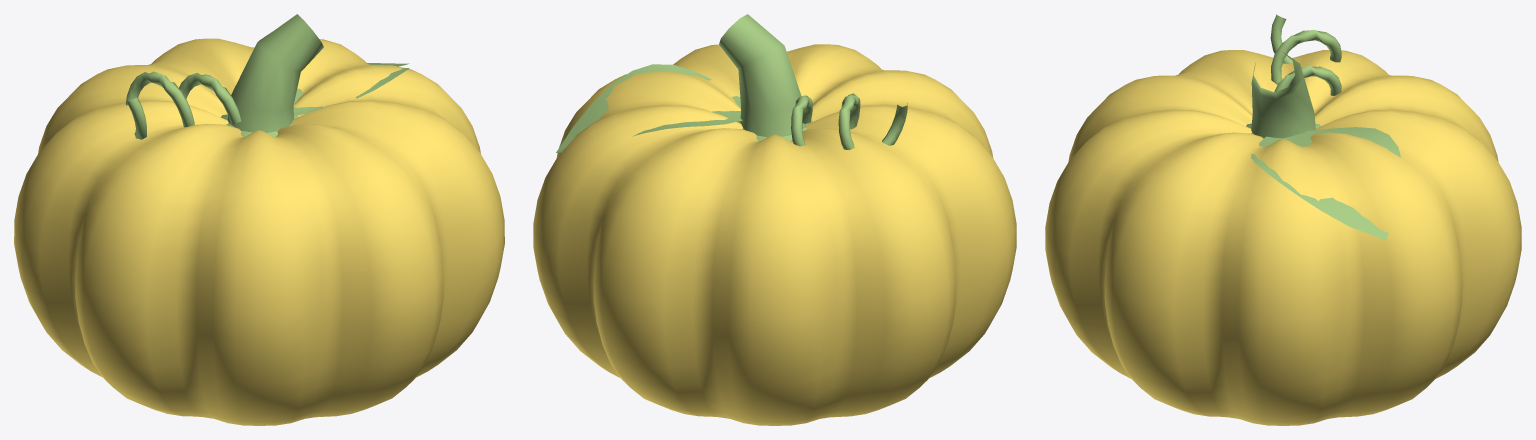
Rendered from GoldenPumpkin.glb.
3 views of the same model, side by side, from view 1: azimuth 30°, elevation 25°; view 2: azimuth 150°, elevation 25°; view 3: azimuth 270°, elevation 25° (orthographic). The views are drawn at different scales.
Visible parts, largest first — view 1: PumpkinBody, PumpkinStem; view 2: PumpkinBody, PumpkinStem; view 3: PumpkinBody, PumpkinStem.
Boxes of the visible parts, box(x1,y1,x2,y2) form: PumpkinBody: box(14, 38, 504, 425); PumpkinStem: box(125, 14, 409, 139); PumpkinBody: box(533, 44, 1016, 425); PumpkinStem: box(556, 14, 907, 152); PumpkinBody: box(1045, 50, 1521, 425); PumpkinStem: box(1246, 14, 1400, 239).
Size of the model in its own units: 3.11 by 2.46 by 3.14.
